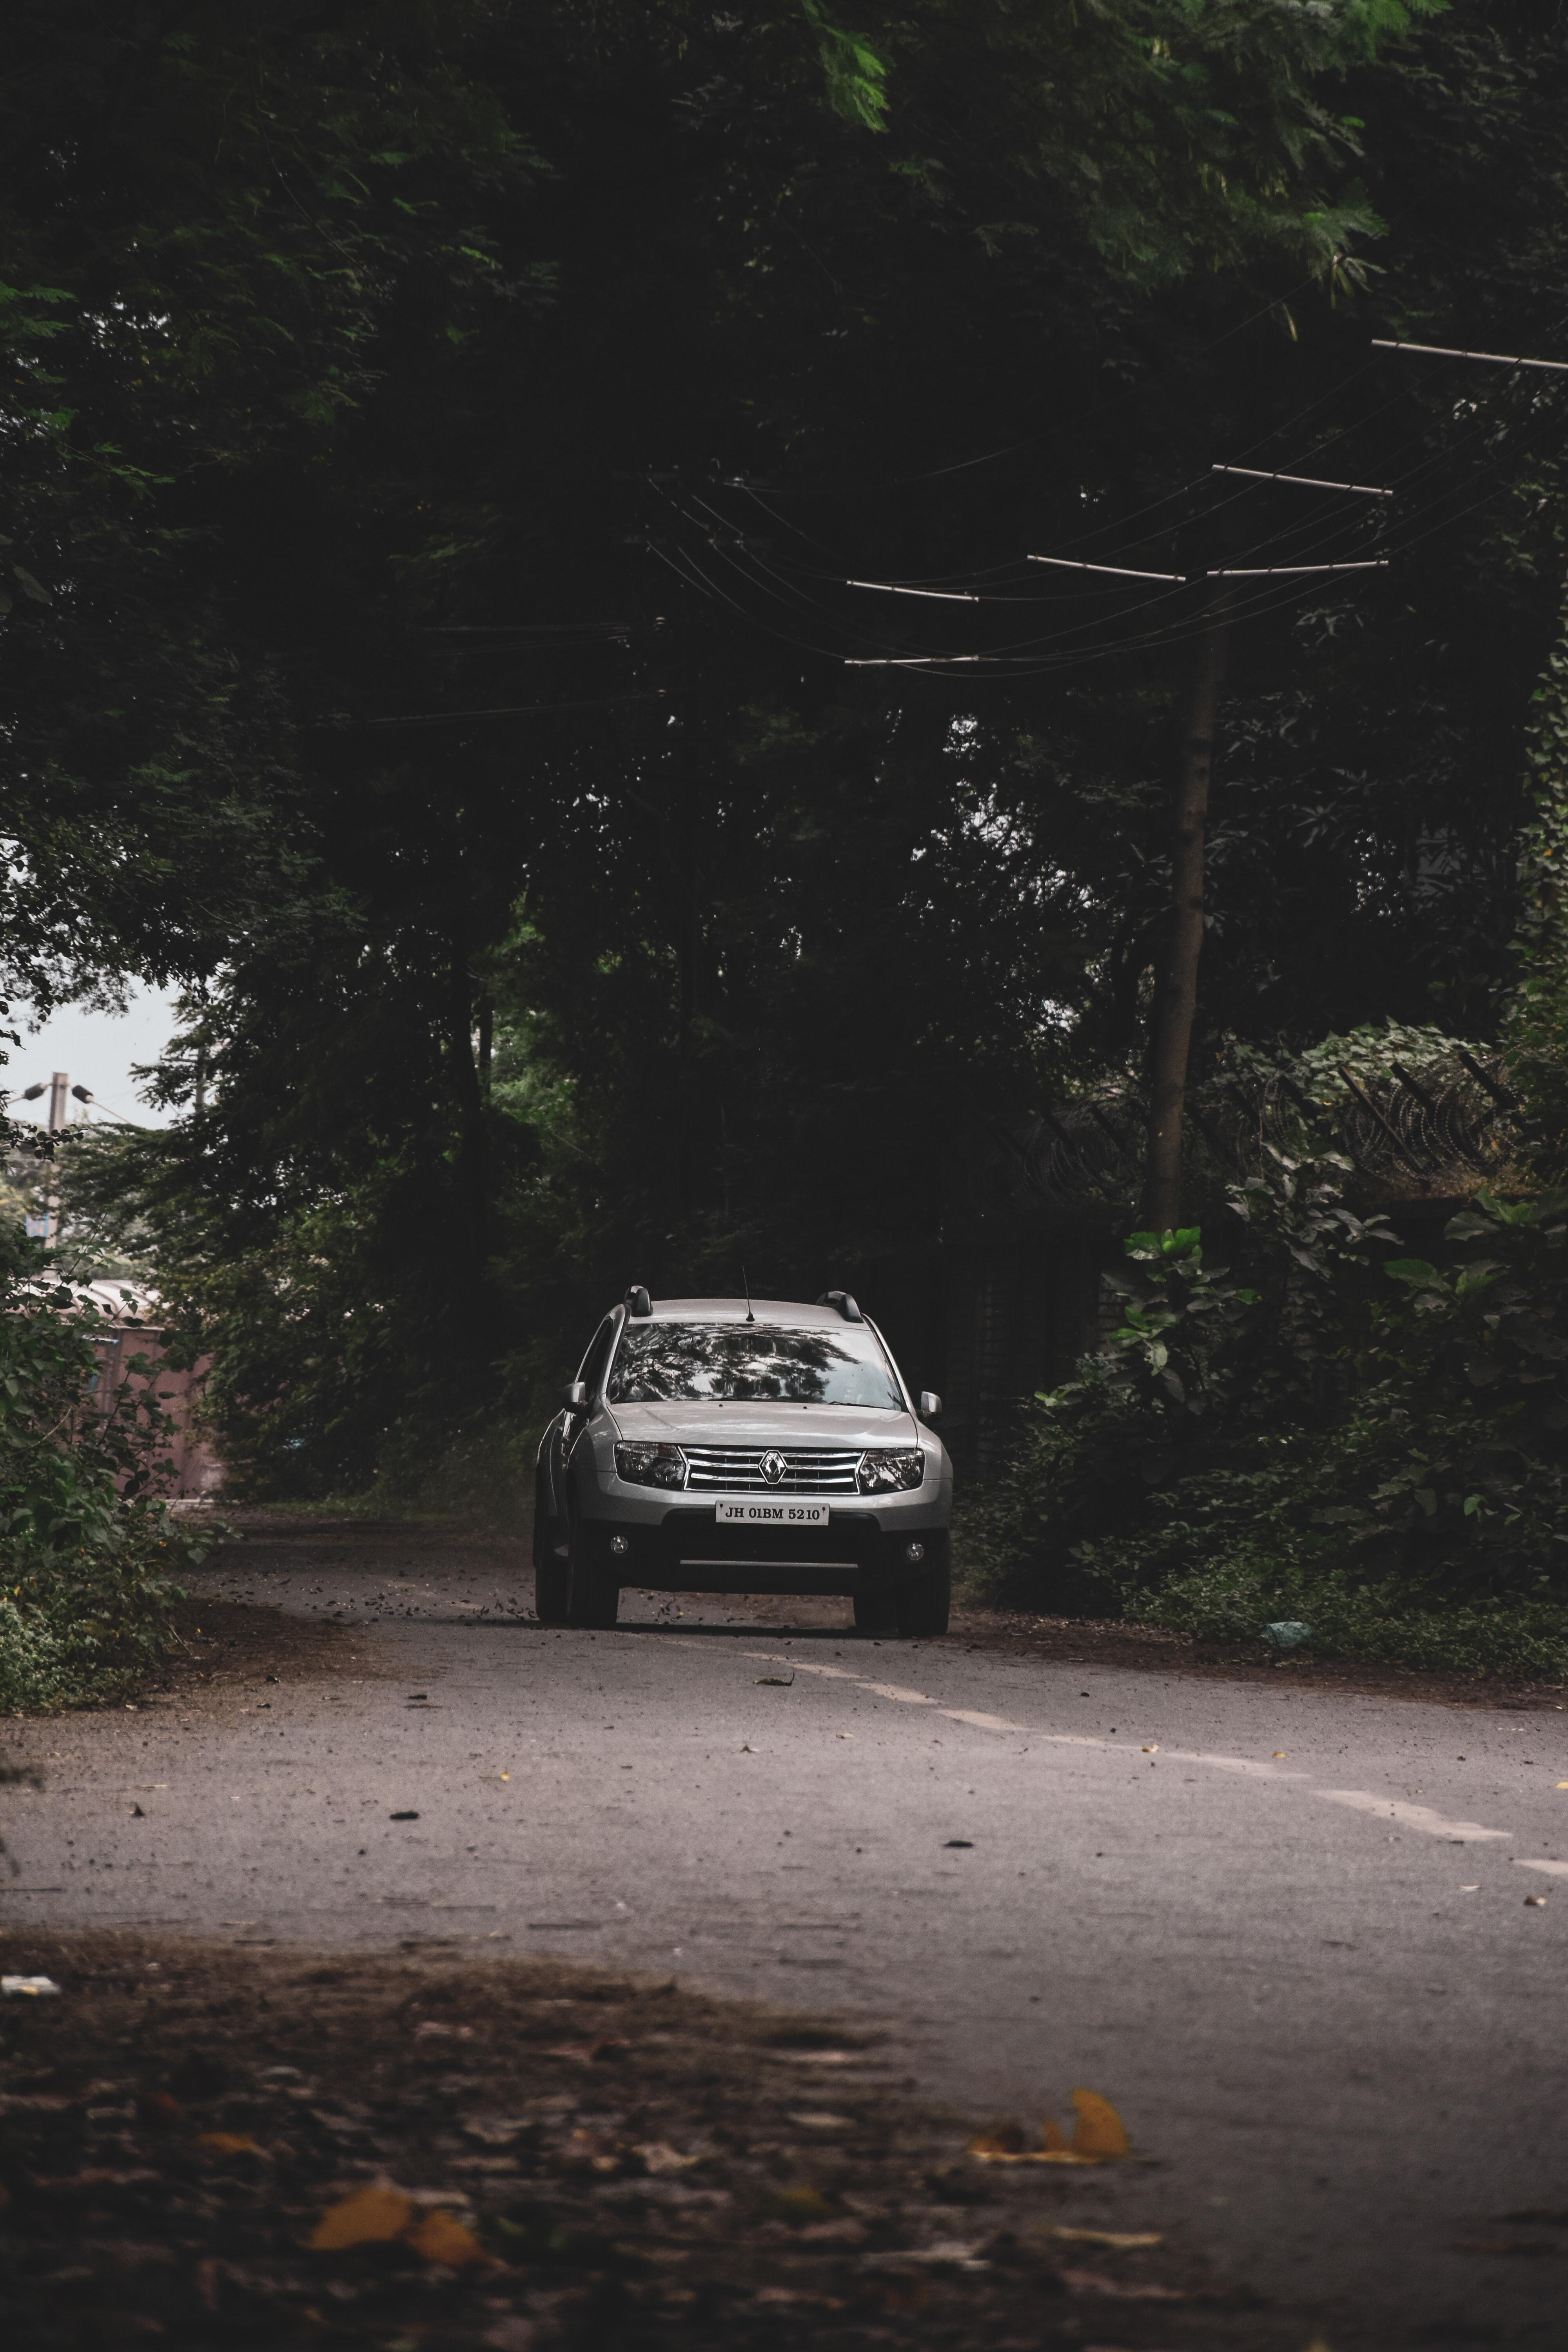Renault: (751, 1443, 795, 1498)
